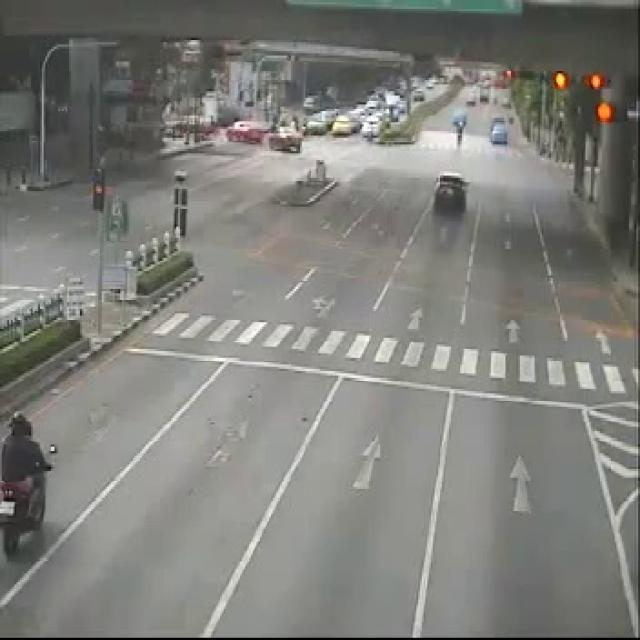car: (432, 171, 466, 211)
motobike: (0, 412, 50, 553)
stop_line: (118, 344, 584, 411)
yellow_light: (88, 165, 107, 209), (592, 96, 617, 122), (550, 72, 569, 92)
